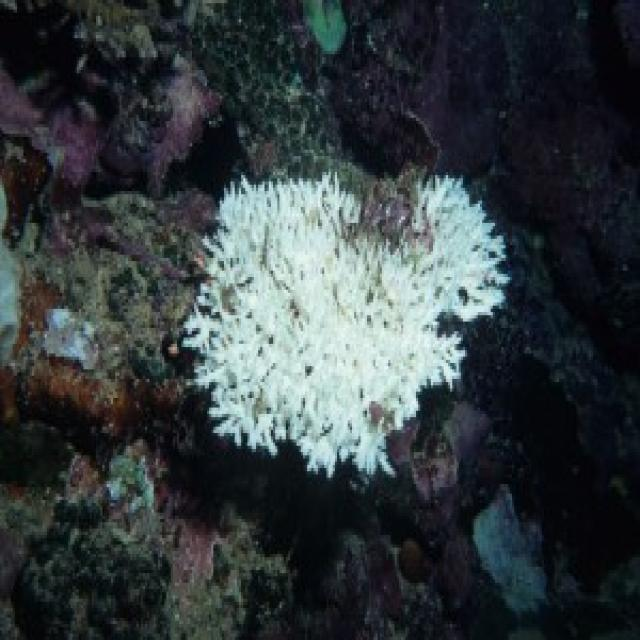Bleached: (184, 173, 509, 472)
